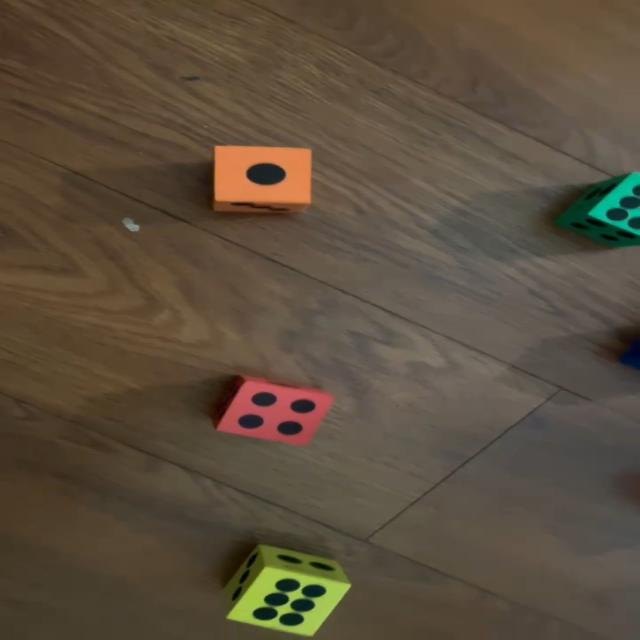red_block: (212, 373, 336, 446)
